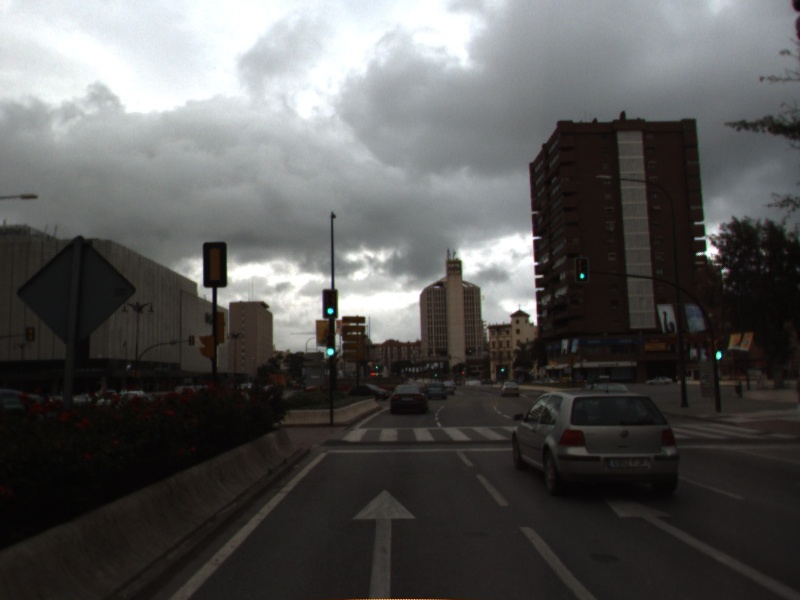STRAIGHT: (599, 491, 800, 600), (347, 484, 422, 600)
